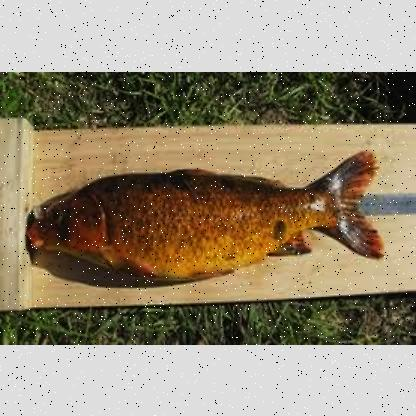ikan-mas: (25, 149, 379, 281)
